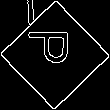P_E: (29, 36, 81, 74)
